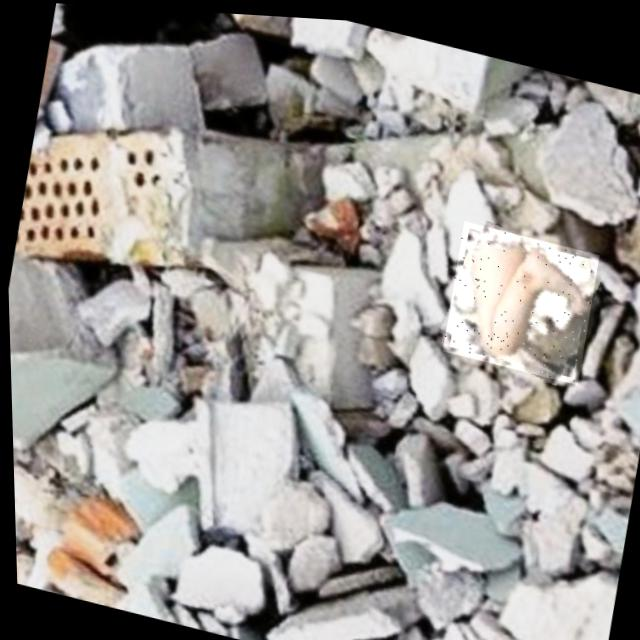Person in Rubble: (437, 213, 601, 379)
